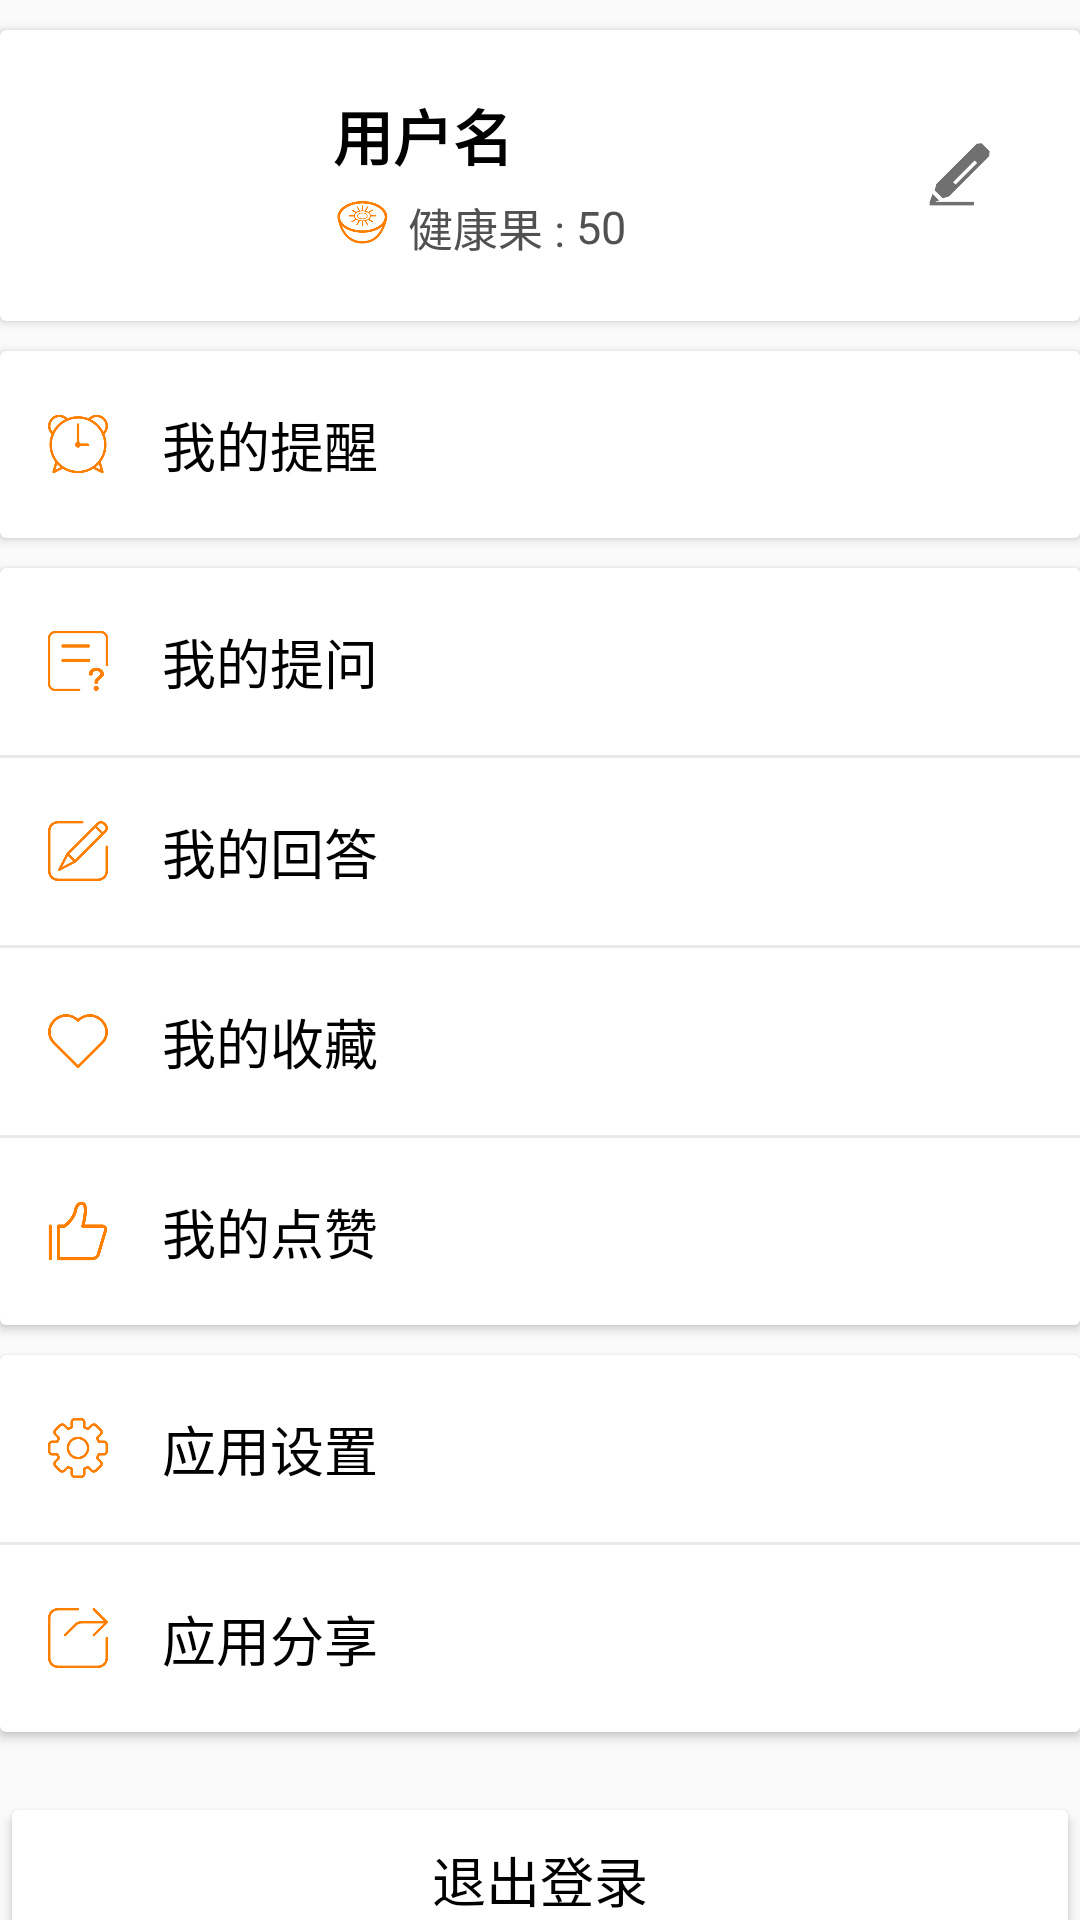

Locate icon controls on the screen. Image size 1080x1920, boxes as (x1, y1, x2, y2).
answer: (48, 821, 108, 881)
edit: (929, 143, 990, 206)
favorite: (48, 1014, 108, 1068)
fruit: (337, 201, 388, 244)
like: (48, 1202, 108, 1261)
question: (48, 631, 108, 691)
reminder: (48, 415, 108, 473)
settings: (48, 1418, 108, 1478)
share: (48, 1608, 108, 1668)
